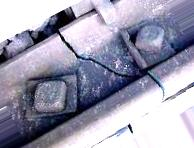tracks_fault: (51, 25, 175, 99)
